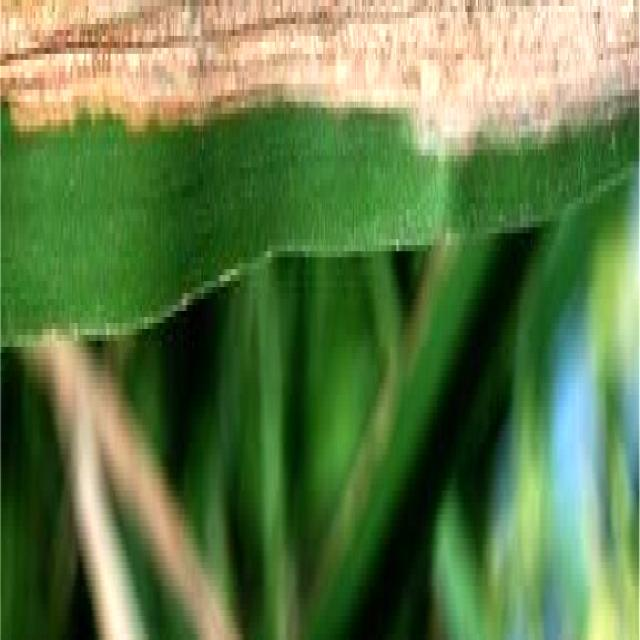BLB: (2, 0, 639, 164)
